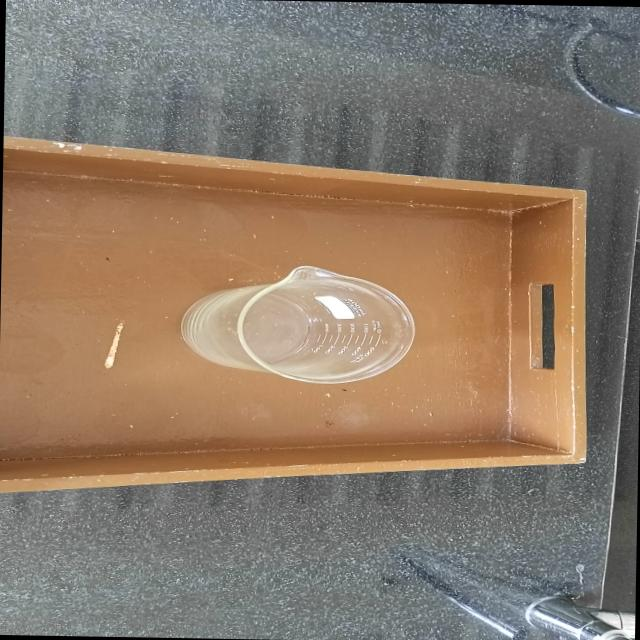beaker: (172, 259, 428, 389)
